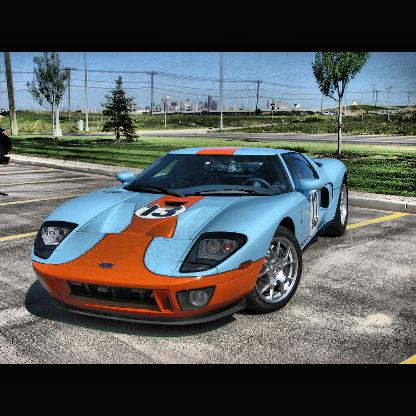Ford GT Coupe 2006: (34, 146, 351, 328)
